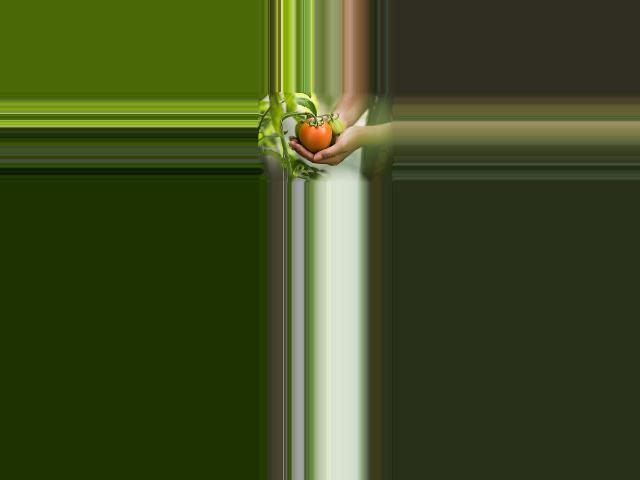tomato: (300, 118, 332, 151)
